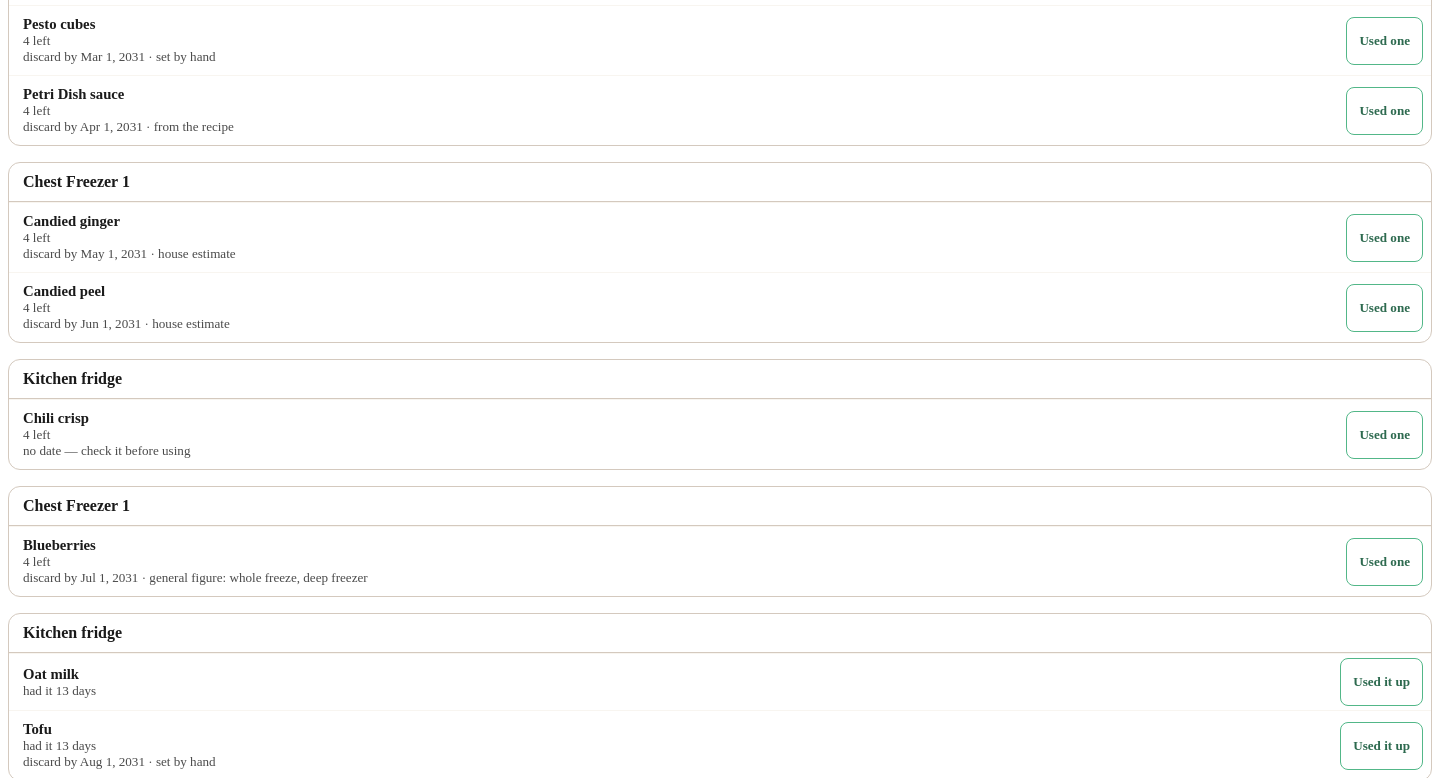
Test: after the move — one line at the top of the Pantry, from the row the server answered › a bought item: where it went, and its typed date when it has one
This screenshot has width=1440, height=778.
(page scrolled)
Click the button "Oat milk had it 13 days". click: [51, 674]
box: [17, 658, 1332, 706]
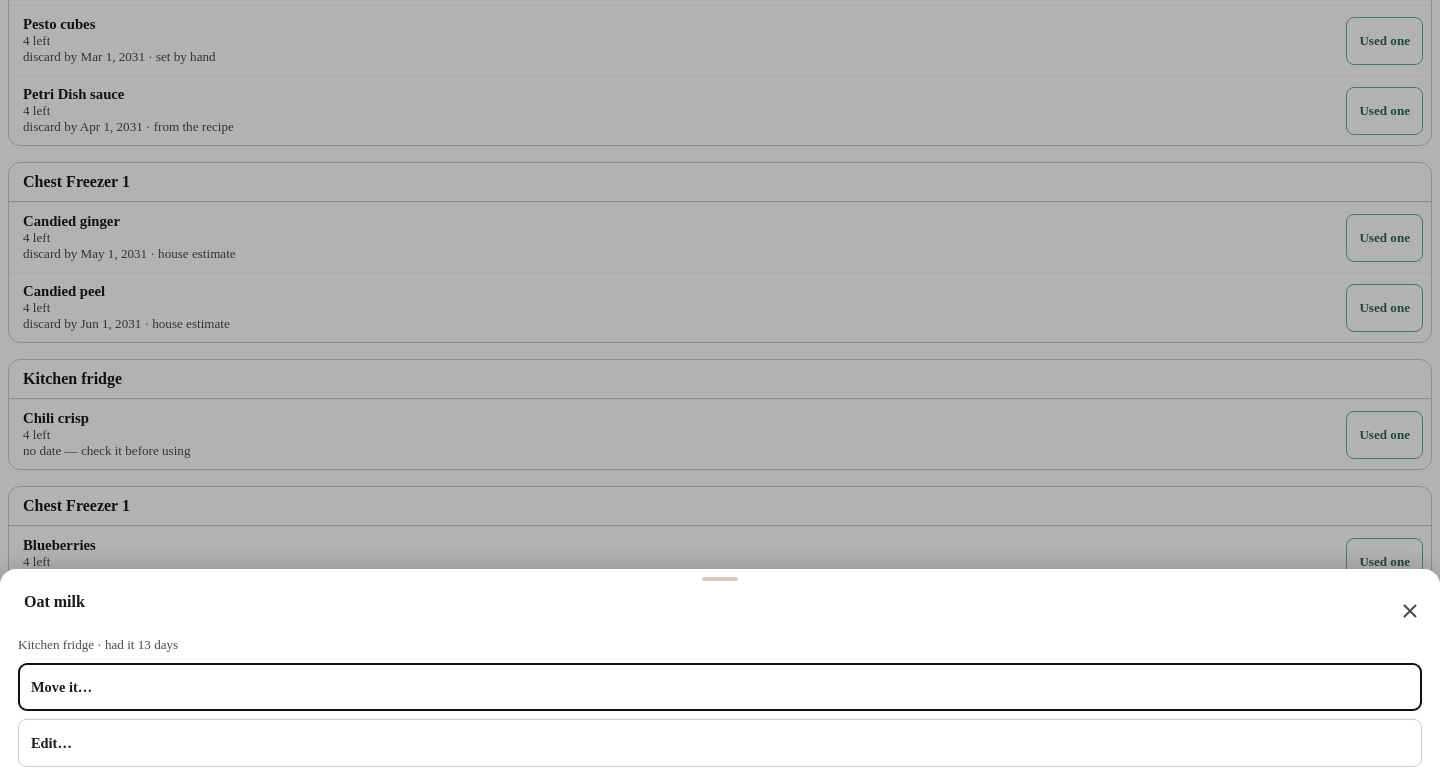
Click the button with test id "row-move". click: [62, 686]
box: [18, 663, 1422, 711]
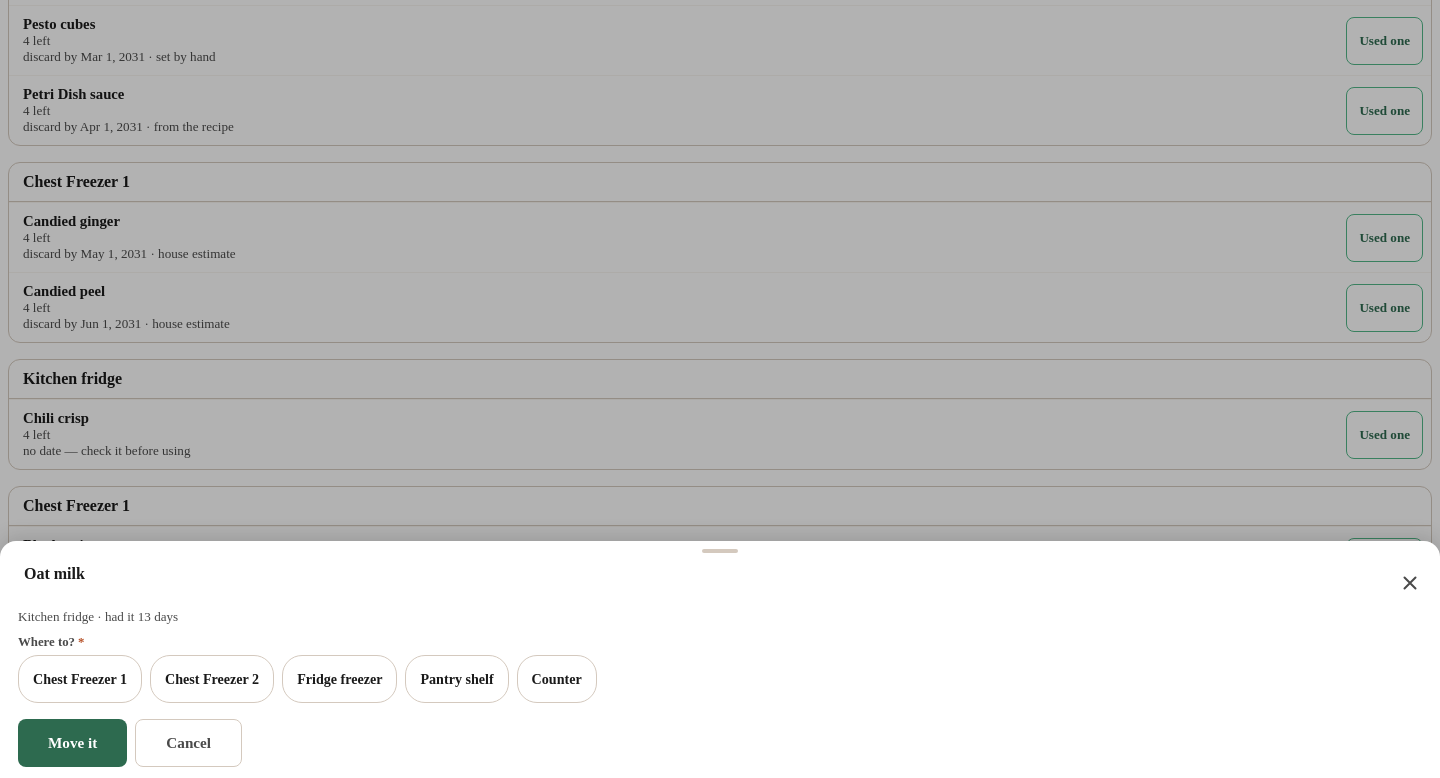
Click the radio button with test id "move-place-id:loc-1". click: [80, 679]
box: [18, 655, 142, 703]
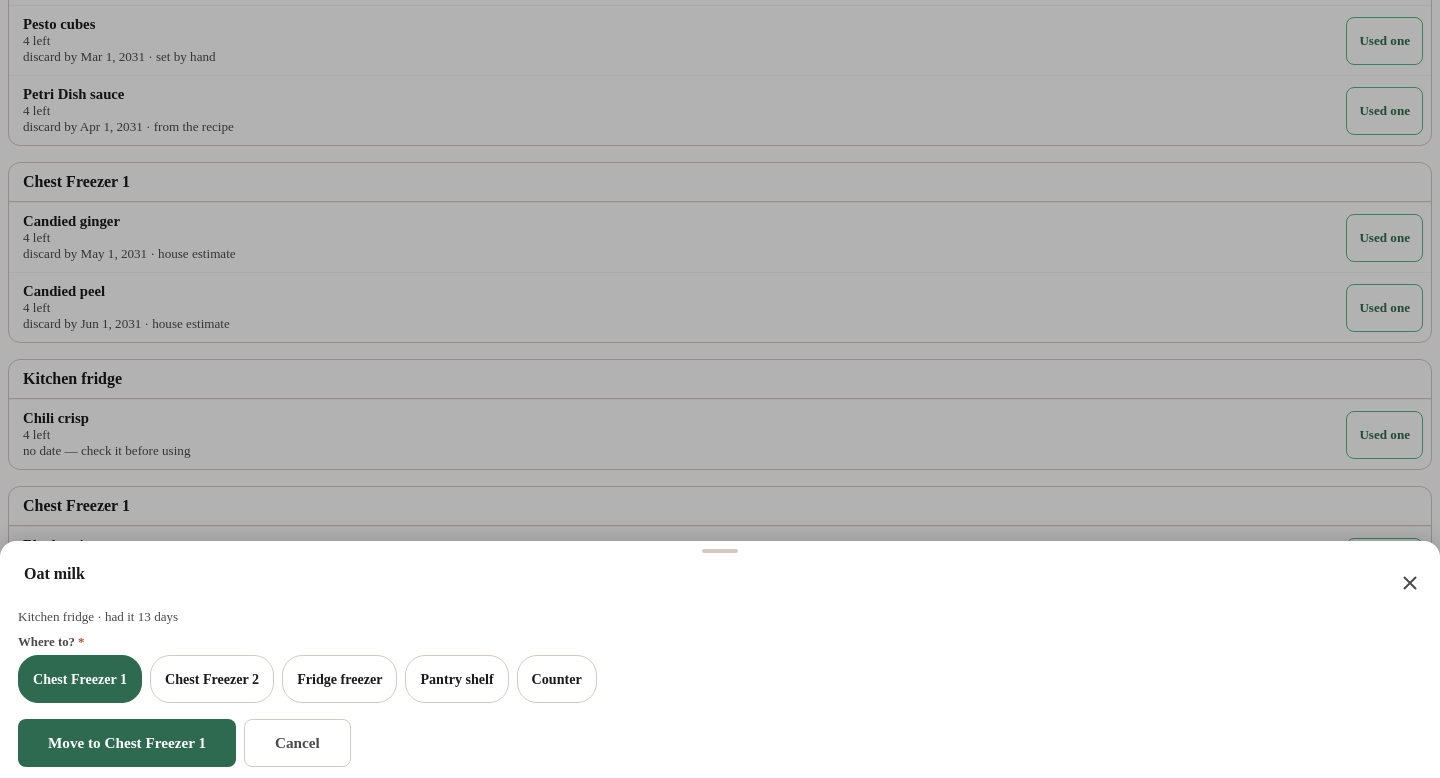
Click the button with test id "move-save". click: [127, 743]
box: [18, 719, 236, 767]
(page scrolled)
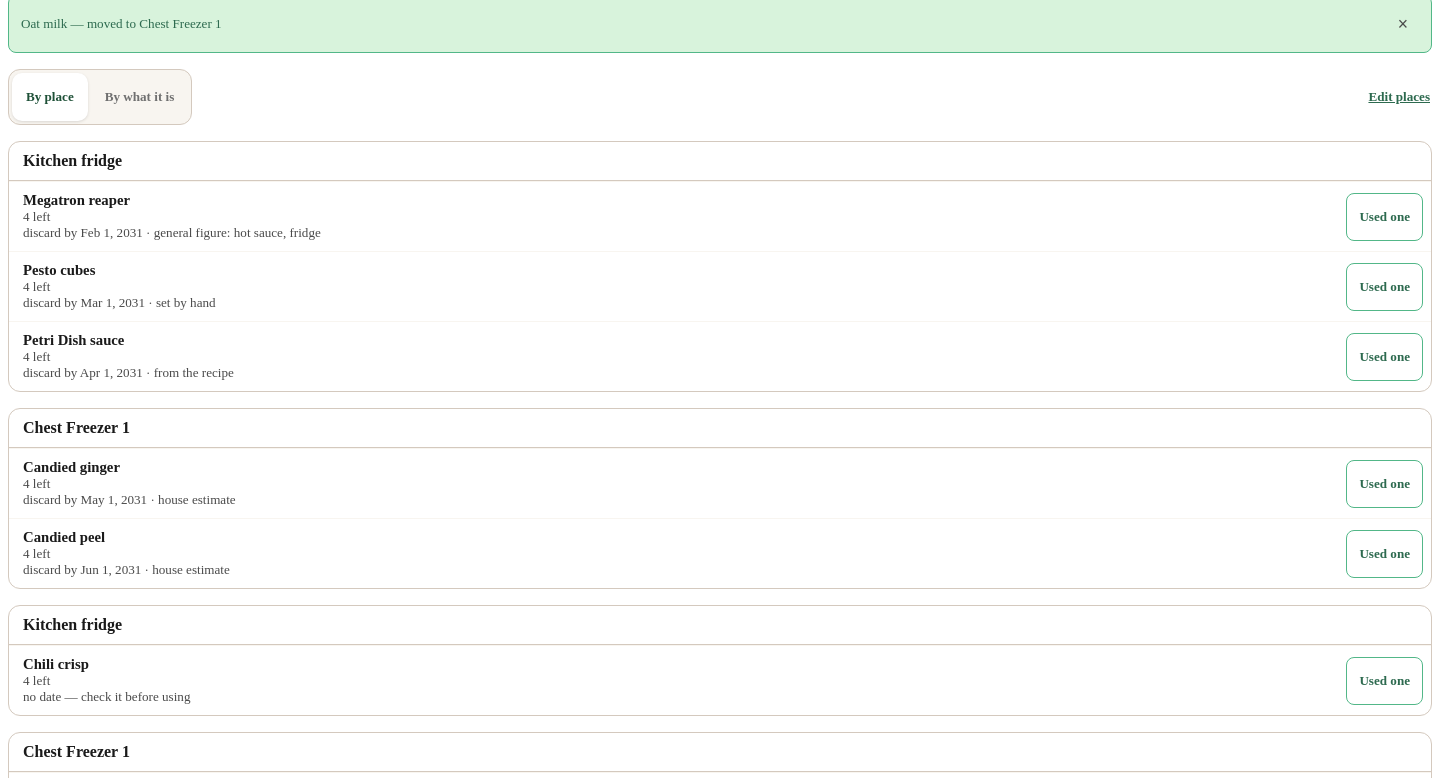
Result: the text "Oat milk — moved to Chest Freezer 1" is shown at [21, 16, 222, 31]
